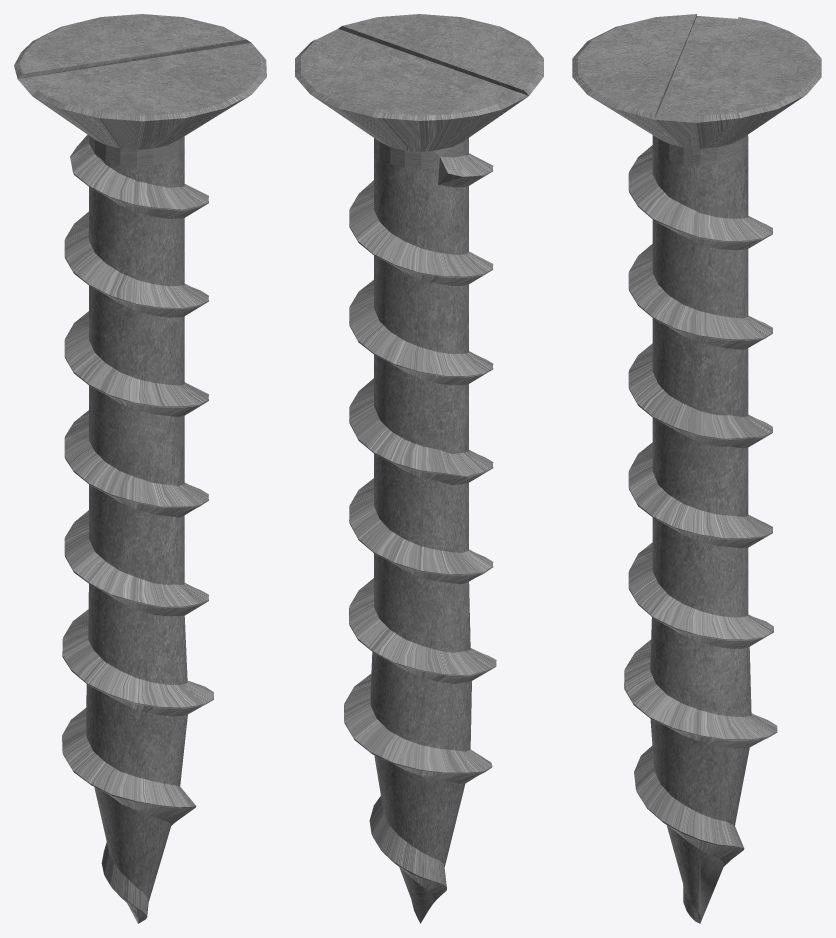
The model's file is schroeff.FBX.
3 renders of one model, left to right at view 1: azimuth 30°, elevation 25°; view 2: azimuth 150°, elevation 25°; view 3: azimuth 270°, elevation 25°, orthographic.
Visible parts, largest first — view 1: Cylinder001; view 2: Cylinder001; view 3: Cylinder001.
Part boxes in pixels (left/top/right/bottom): Cylinder001: left=14, top=14, right=266, bottom=923; Cylinder001: left=295, top=14, right=543, bottom=923; Cylinder001: left=572, top=14, right=821, bottom=923.
Bounding box in the file's own units: 31.81 × 119 × 31.33.
1 material, 1 textured.
